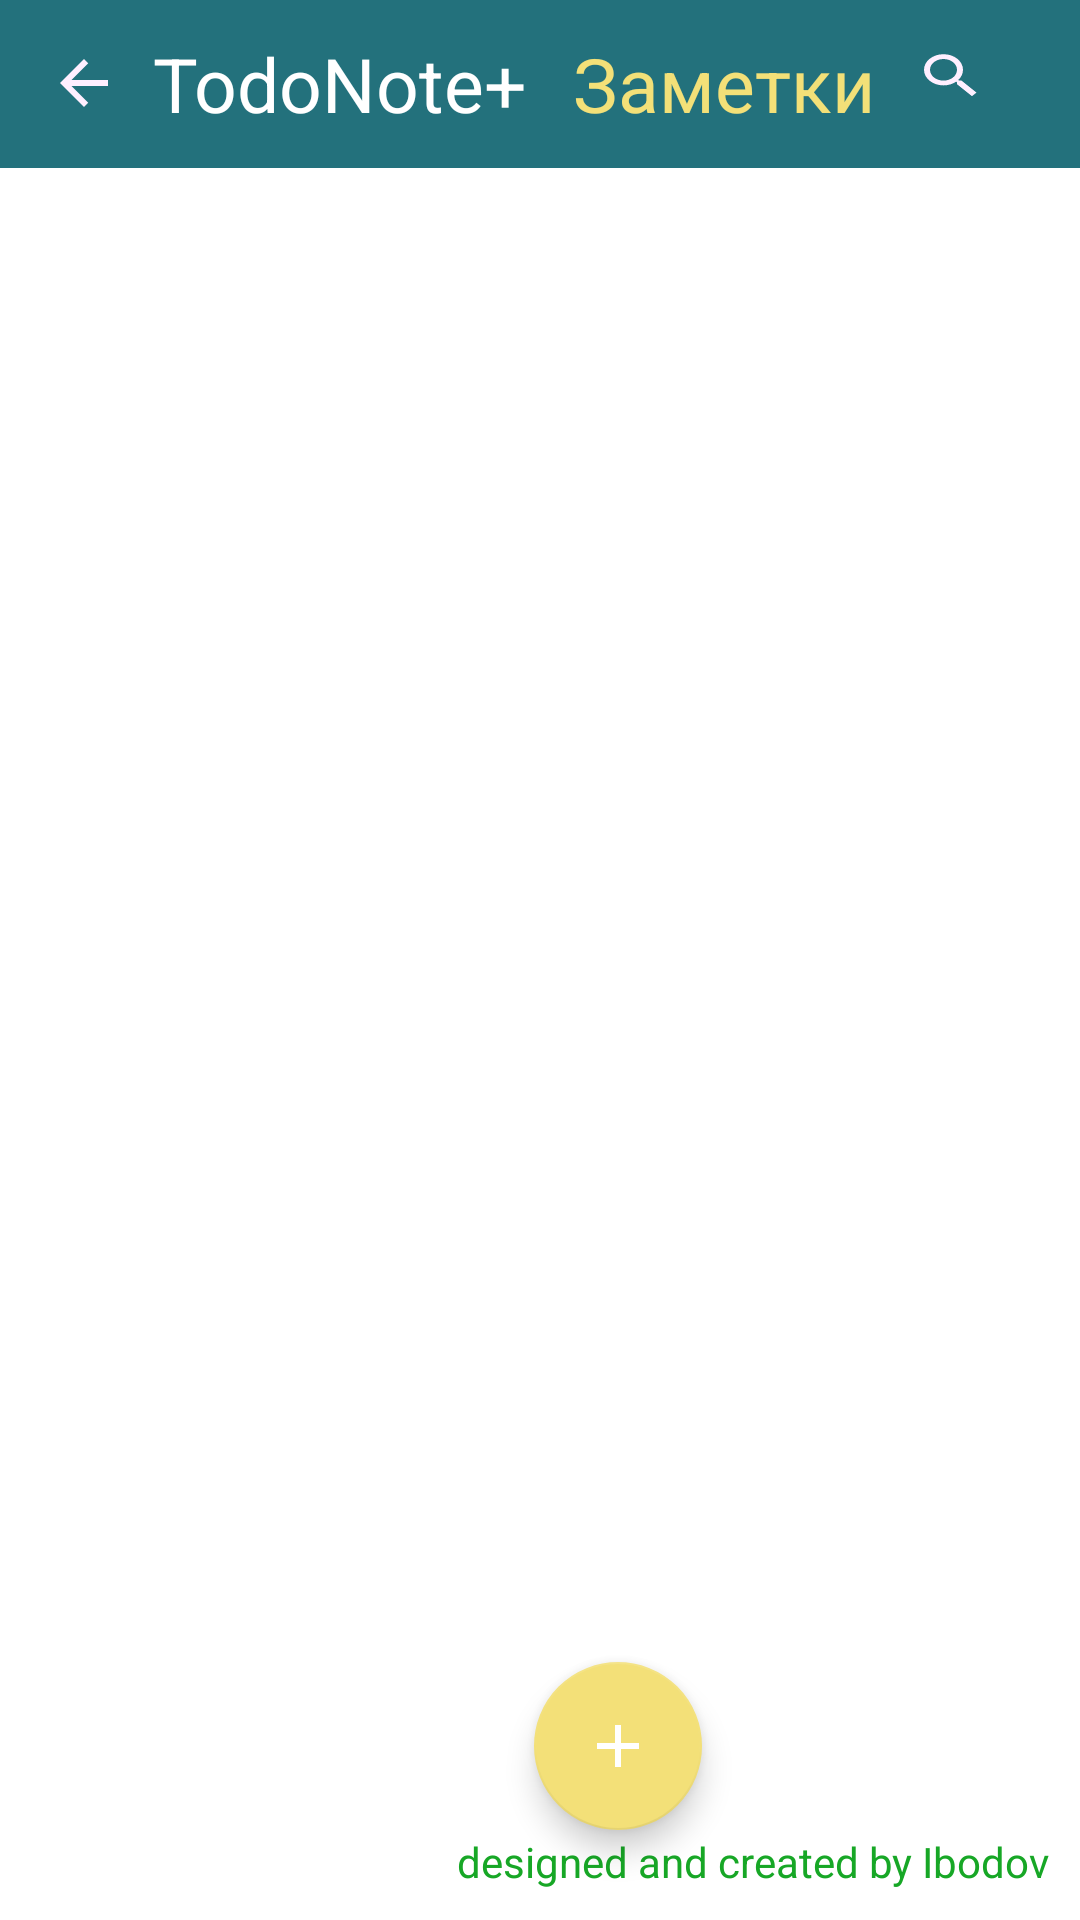

Icon bounding boxes for this 1080 × 1920 phone screenshot, format (x1, y1, x2, y2):
add note: (534, 1662, 702, 1830)
back: (60, 59, 108, 107)
search: (924, 54, 977, 96)
